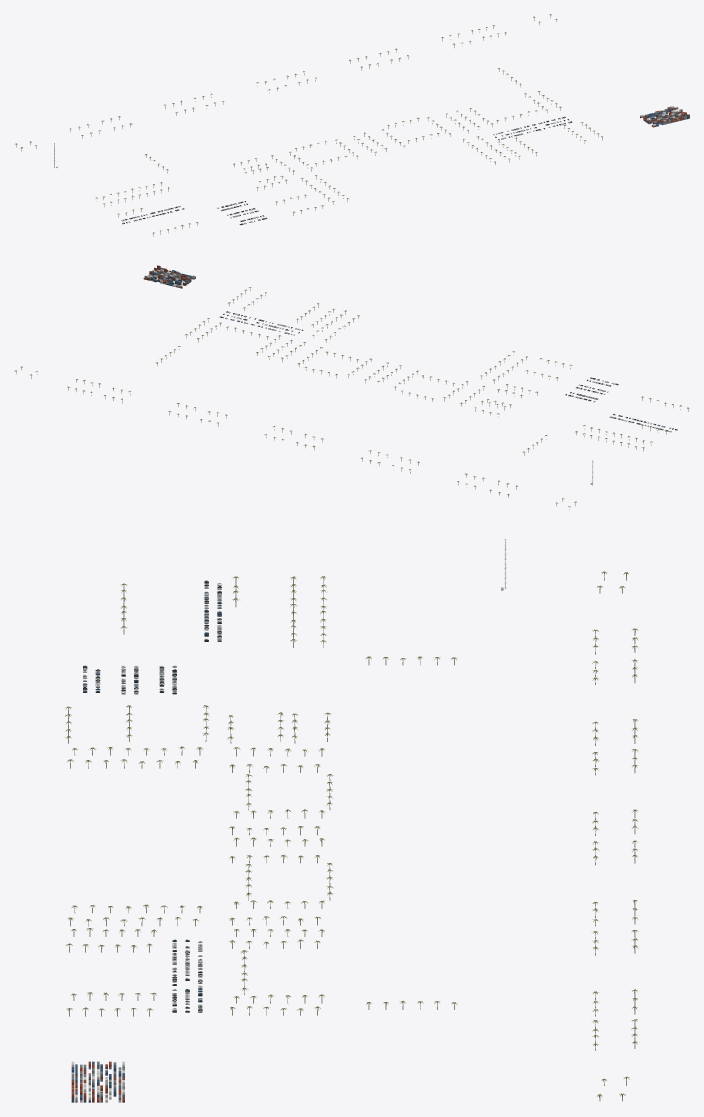
The model's file is site-props.glb.
3 views of the same model, one above another, from view 1: azimuth 30°, elevation 25°; view 2: azimuth 150°, elevation 25°; view 3: azimuth 270°, elevation 25° (orthographic). The views are drawn at different scales.
Parts seen in each view (by area): view 1: props__palm_leaf, props__palm_trunk; view 2: props__palm_leaf, props__palm_trunk; view 3: props__palm_leaf, props__palm_trunk, props__car_white.
Part boxes in pixels (x1,y1,x2,y2): props__palm_leaf: (15, 14, 602, 233); props__palm_trunk: (16, 15, 602, 236); props__palm_leaf: (14, 287, 689, 507); props__palm_trunk: (16, 289, 688, 510); props__palm_leaf: (65, 571, 638, 1097); props__palm_trunk: (68, 574, 635, 1101); props__car_white: (83, 583, 221, 1009).
Size of the model in its own units: 1163 by 50.79 by 539.
